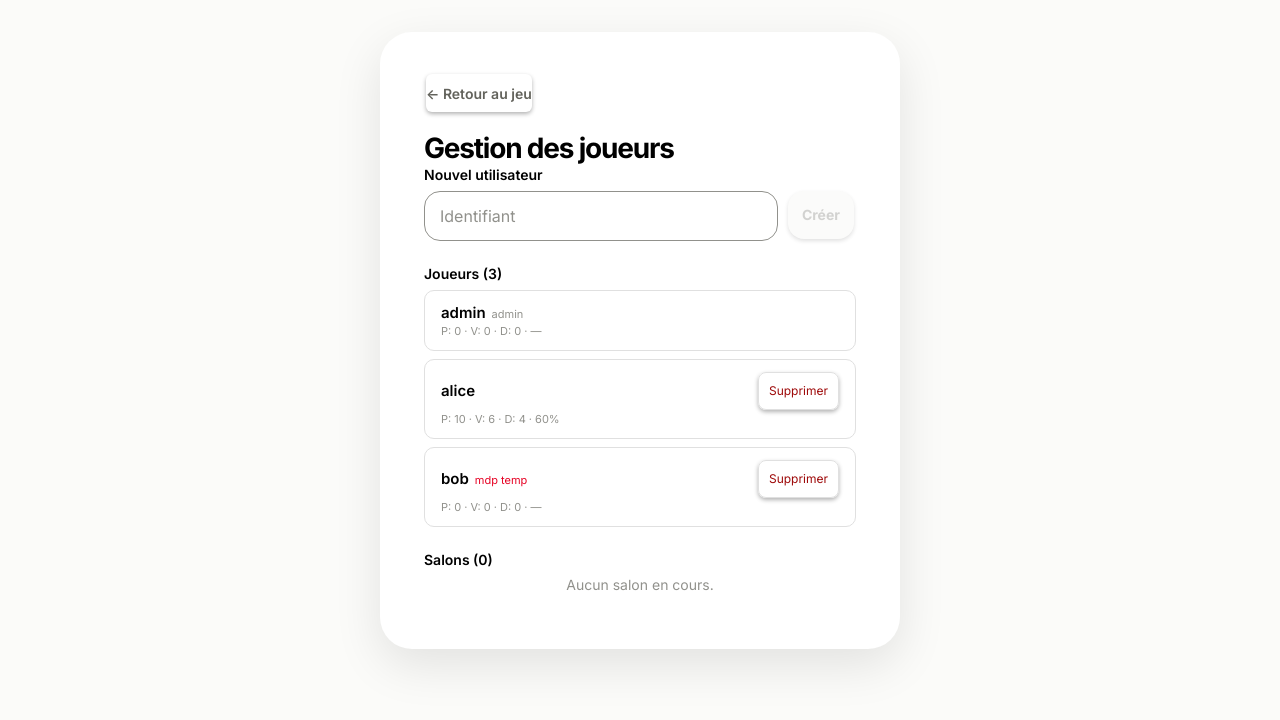
Test case: AdminPanel › affiche une erreur si le nom d'utilisateur est déjà pris
The width and height of the screenshot is (1280, 720).
Check: the text "alice" is shown, box [441,381,475,400]
Type "admin" into the field with placeholder "Identifiant" at x=601, y=216, box [424,191,778,241]
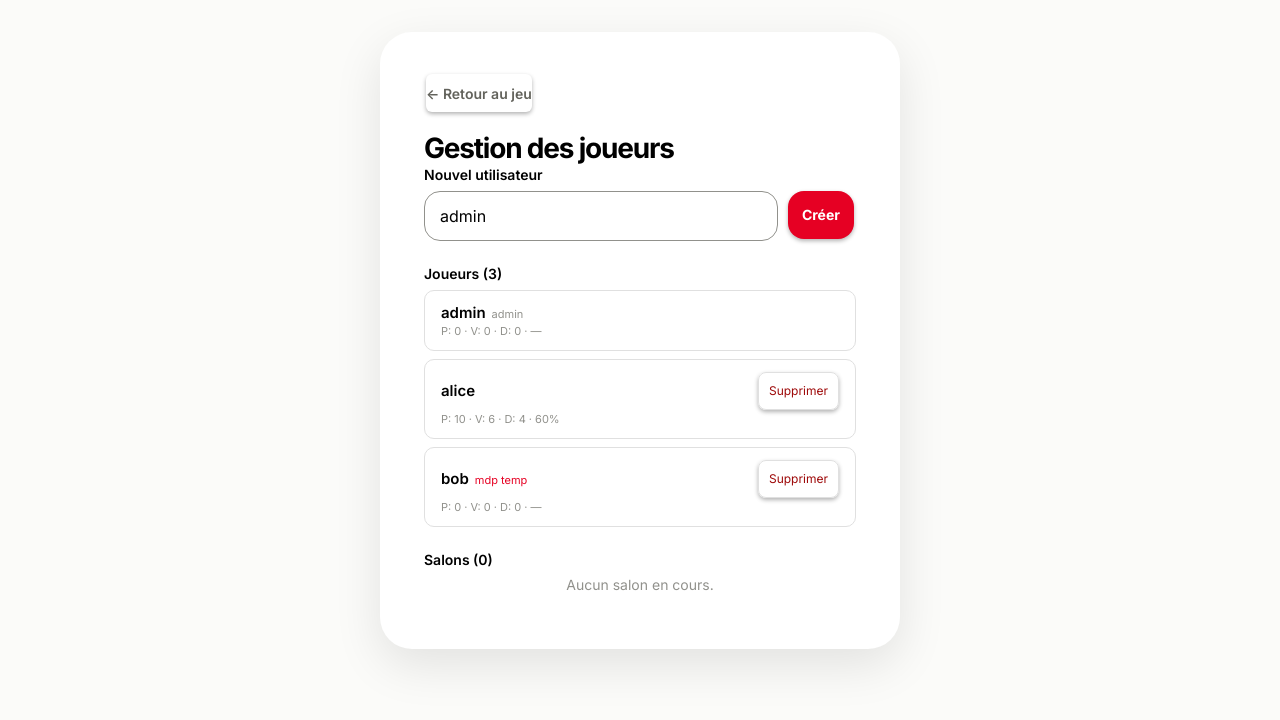
Click the button "Créer" at x=821, y=215, box [788,191,854,239]
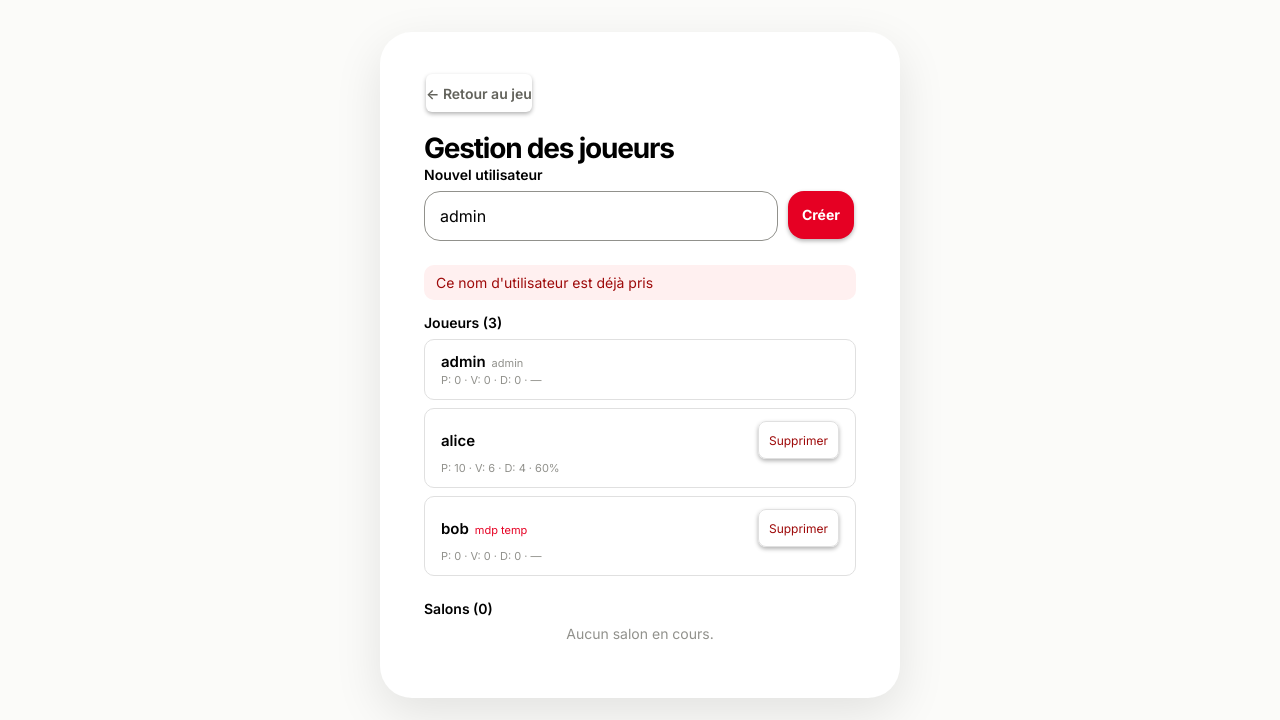
Check: the text "Ce nom d'utilisateur est déjà pris" is shown, box [424,265,856,300]
